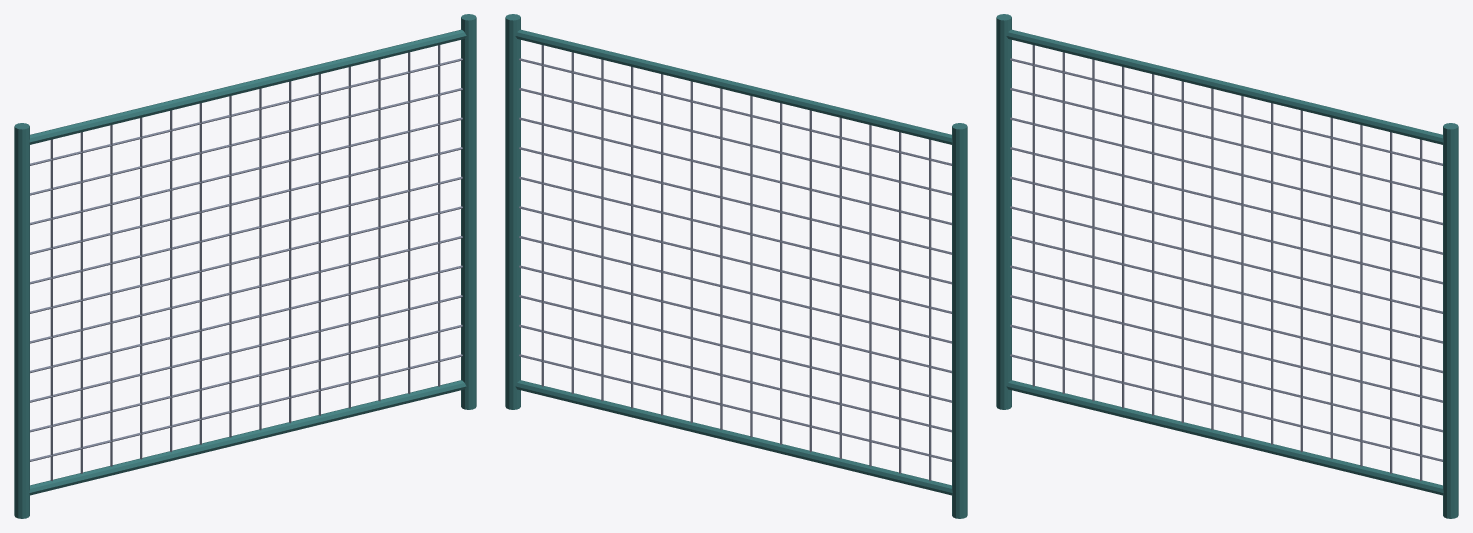
Rendered from sports_fence_panel.glb.
The picture shows the model from 3 angles, left to right: view 1: azimuth 30°, elevation 25°; view 2: azimuth 150°, elevation 25°; view 3: azimuth 330°, elevation 25°; orthographic projection.
Parts seen in each view (by area): view 1: sports_fence_panel_Mesh; view 2: sports_fence_panel_Mesh; view 3: sports_fence_panel_Mesh.
Boxes of the visible parts, left/top/right/bottom form: sports_fence_panel_Mesh: left=14, top=14, right=476, bottom=518; sports_fence_panel_Mesh: left=505, top=14, right=967, bottom=518; sports_fence_panel_Mesh: left=996, top=14, right=1458, bottom=518.
Bounding box in the file's own units: 3.09 × 2.5 × 0.09.
